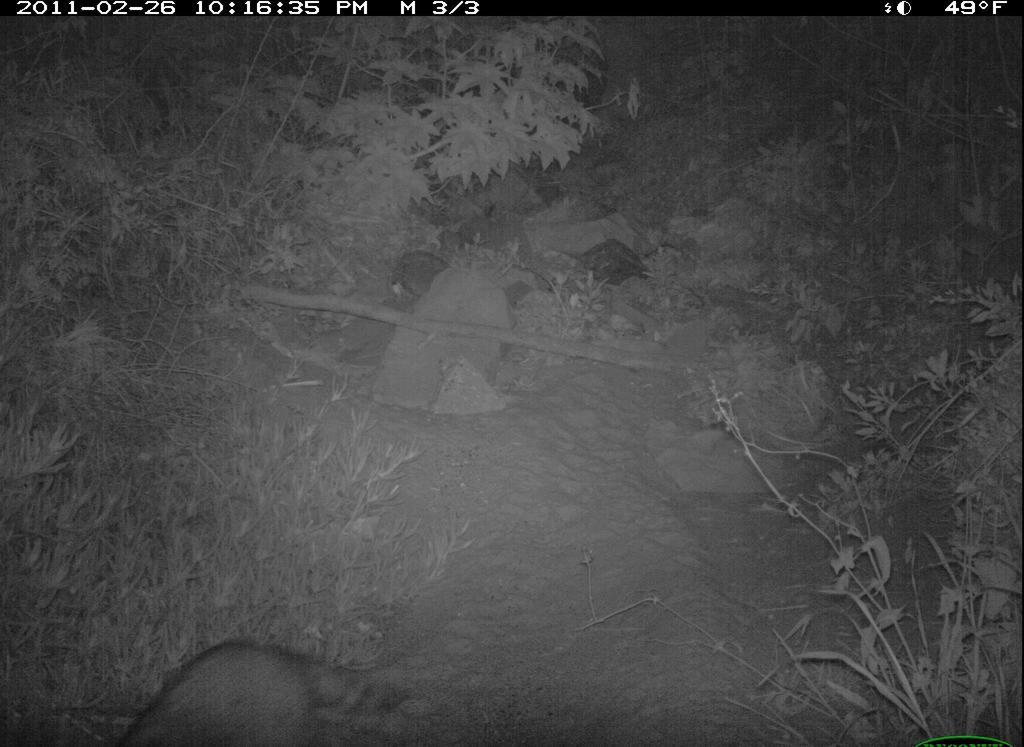raccoon: (91, 630, 441, 747)
